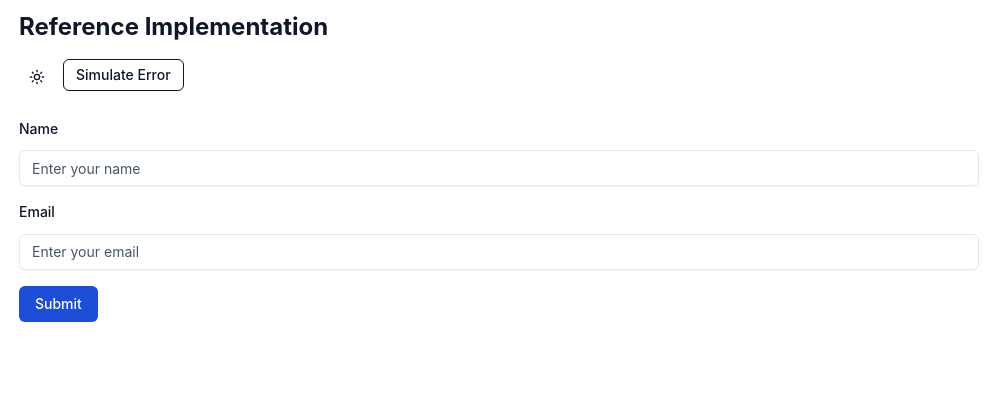
Test: ReferencePage › shows validation errors when submitting empty form
The width and height of the screenshot is (999, 403).
What coordinates should you click on to do the following:
click the button "Submit"
I would click on:
 (58, 304)
Its box is [19,286,98,322].
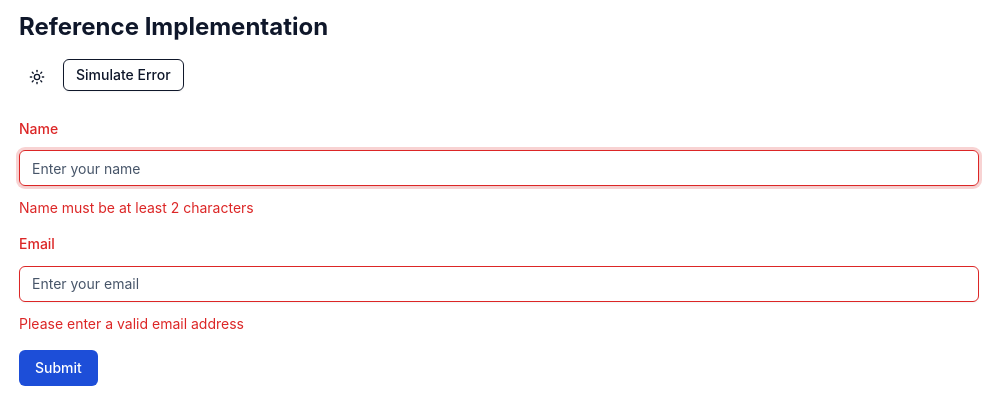
Expected: the text "Name must be at least 2 characters" is shown, [19,199,254,216]
Expected: the text "Please enter a valid email address" is shown, [19,314,244,332]
